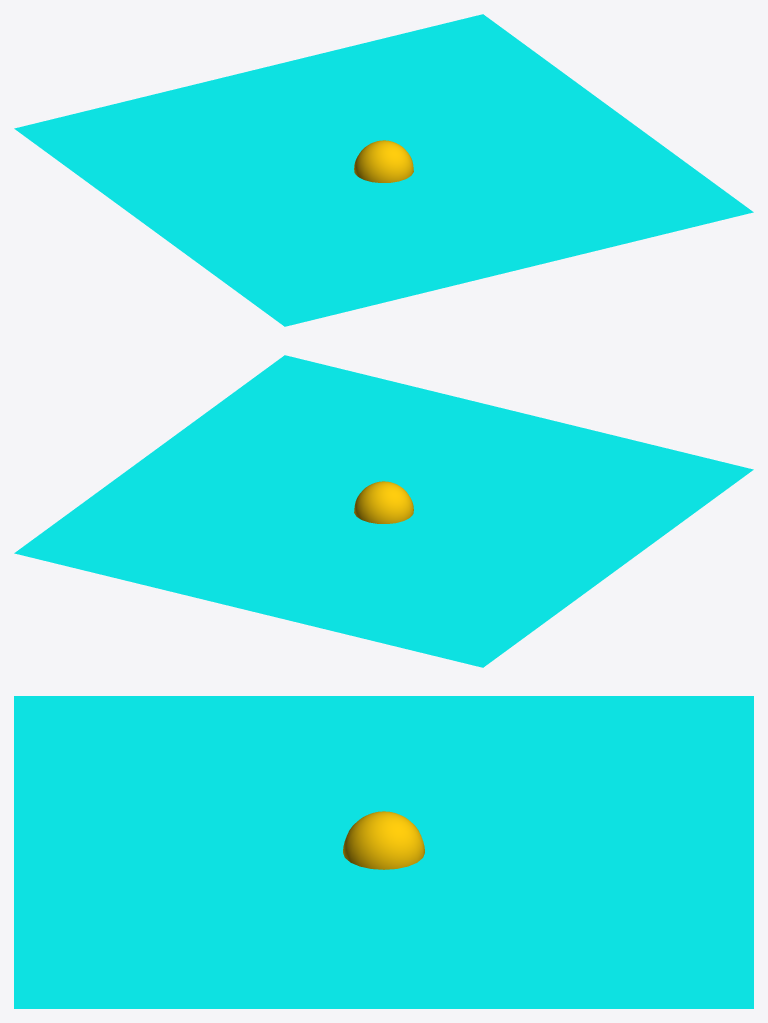
The model's file is simple_006_AmbientLight_00.dae.
3 views of the same model, one above another, from view 1: azimuth 30°, elevation 25°; view 2: azimuth 150°, elevation 25°; view 3: azimuth 270°, elevation 25° (orthographic). The views are drawn at different scales.
Parts seen in each view (by area): view 1: pPlane1, pSphere1; view 2: pPlane1, pSphere1; view 3: pPlane1, pSphere1.
Boxes of the visible parts, x1=… form: pPlane1: x1=14, y1=14, x2=753, y2=326; pSphere1: x1=354, y1=140, x2=413, y2=182; pPlane1: x1=14, y1=355, x2=753, y2=667; pSphere1: x1=354, y1=481, x2=413, y2=523; pPlane1: x1=14, y1=696, x2=753, y2=1008; pSphere1: x1=343, y1=811, x2=424, y2=869.
Size of the model in its own units: 17.99 by 2 by 17.99.
